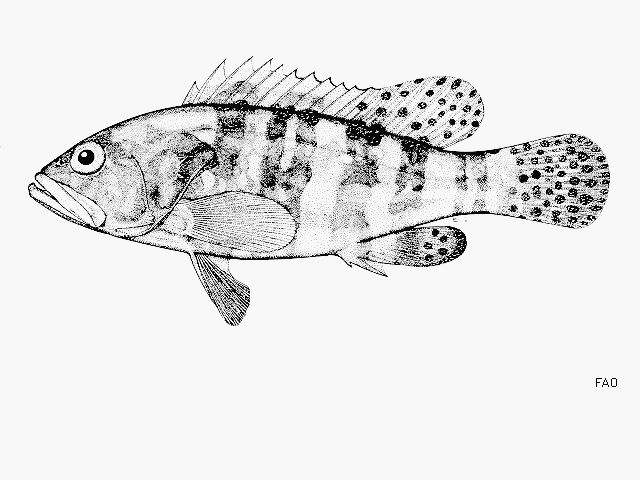fish: (28, 55, 611, 327)
